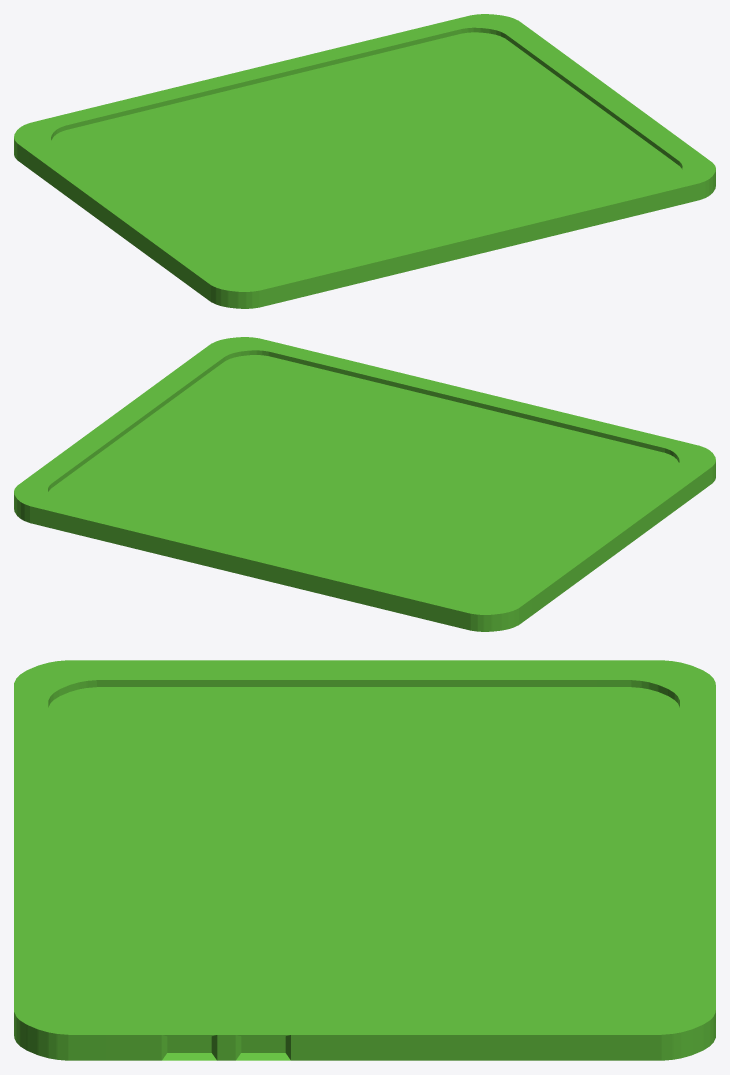
Rendered from Tabletv3.fbx.
3 views of the same model, one above another, from view 1: azimuth 30°, elevation 25°; view 2: azimuth 150°, elevation 25°; view 3: azimuth 270°, elevation 25° (orthographic). The views are drawn at different scales.
Parts seen in each view (by area): view 1: tablet; view 2: tablet; view 3: tablet.
Boxes of the visible parts, bbox=[...] form: tablet: bbox=[14, 14, 715, 308]; tablet: bbox=[14, 337, 715, 631]; tablet: bbox=[14, 660, 715, 1060].
Size of the model in its own units: 480 by 17.98 by 380.
